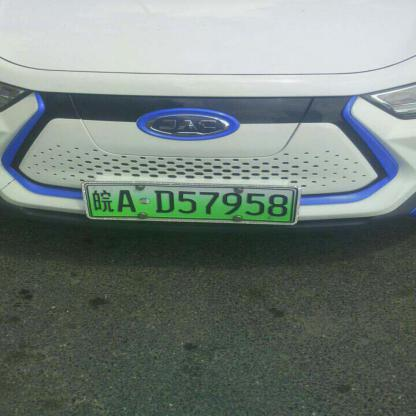lp: (85, 184, 296, 222)
